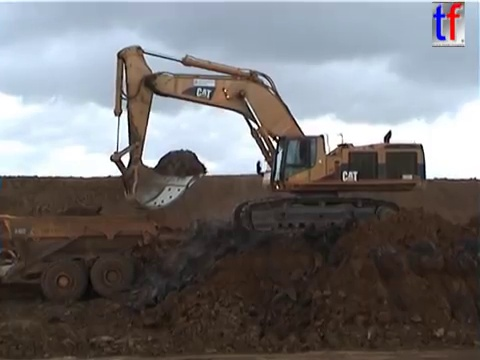excavator: (106, 42, 429, 241)
truck: (1, 211, 161, 303)
